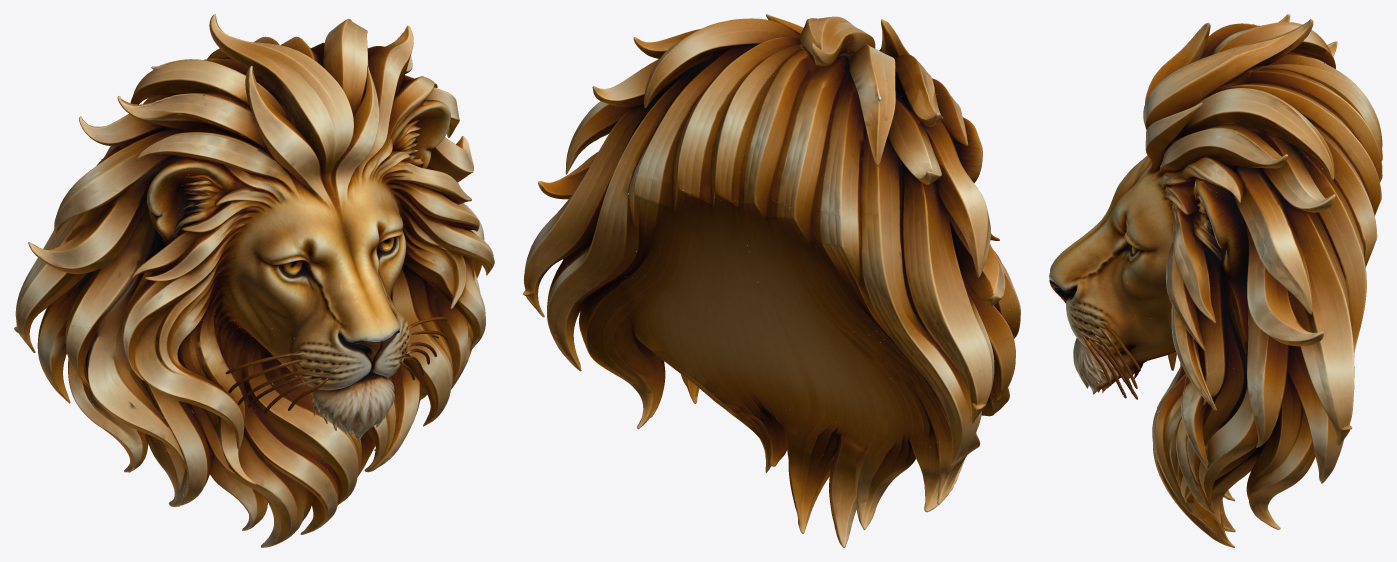
Rendered from lion-desktop.glb.
3 views of the same model, side by side, from view 1: azimuth 30°, elevation 25°; view 2: azimuth 150°, elevation 25°; view 3: azimuth 270°, elevation 25° (orthographic). The views are drawn at different scales.
Visible parts, largest first — view 1: geometry_0; view 2: geometry_0; view 3: geometry_0.
Part boxes in pixels (x1,y1,x2,y2): geometry_0: [14, 14, 494, 547]; geometry_0: [523, 14, 1020, 547]; geometry_0: [1049, 14, 1382, 547].
Size of the model in its own units: 1.83 by 2 by 1.19.
Materials: 1 (1 with a texture image).
